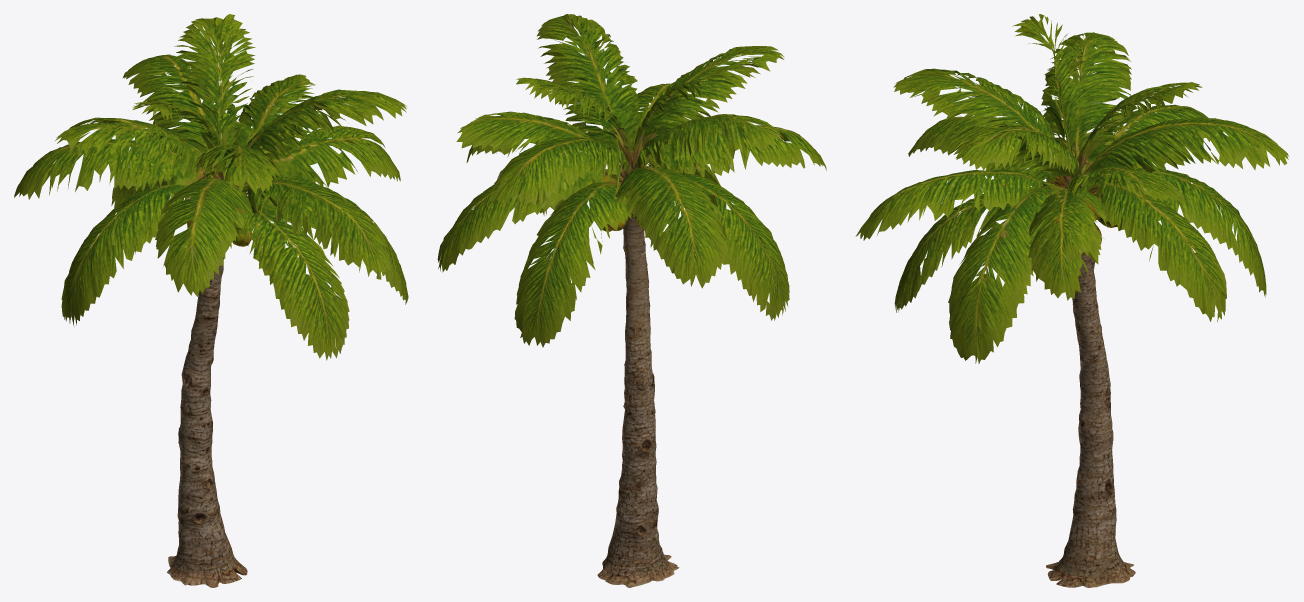
Rendered from coconut-tropical.glb.
3 renders of one model, left to right at view 1: azimuth 30°, elevation 25°; view 2: azimuth 150°, elevation 25°; view 3: azimuth 270°, elevation 25°, orthographic.
Visible parts, largest first — view 1: Object_4; view 2: Object_4; view 3: Object_4.
Boxes of the visible parts, x1,y1,x2,y2 form: Object_4: [14, 14, 408, 587]; Object_4: [437, 14, 826, 587]; Object_4: [855, 14, 1288, 587].
Size of the model in its own units: 0.6372 by 0.9502 by 0.7275.
Materials: 1 (1 with a texture image).
